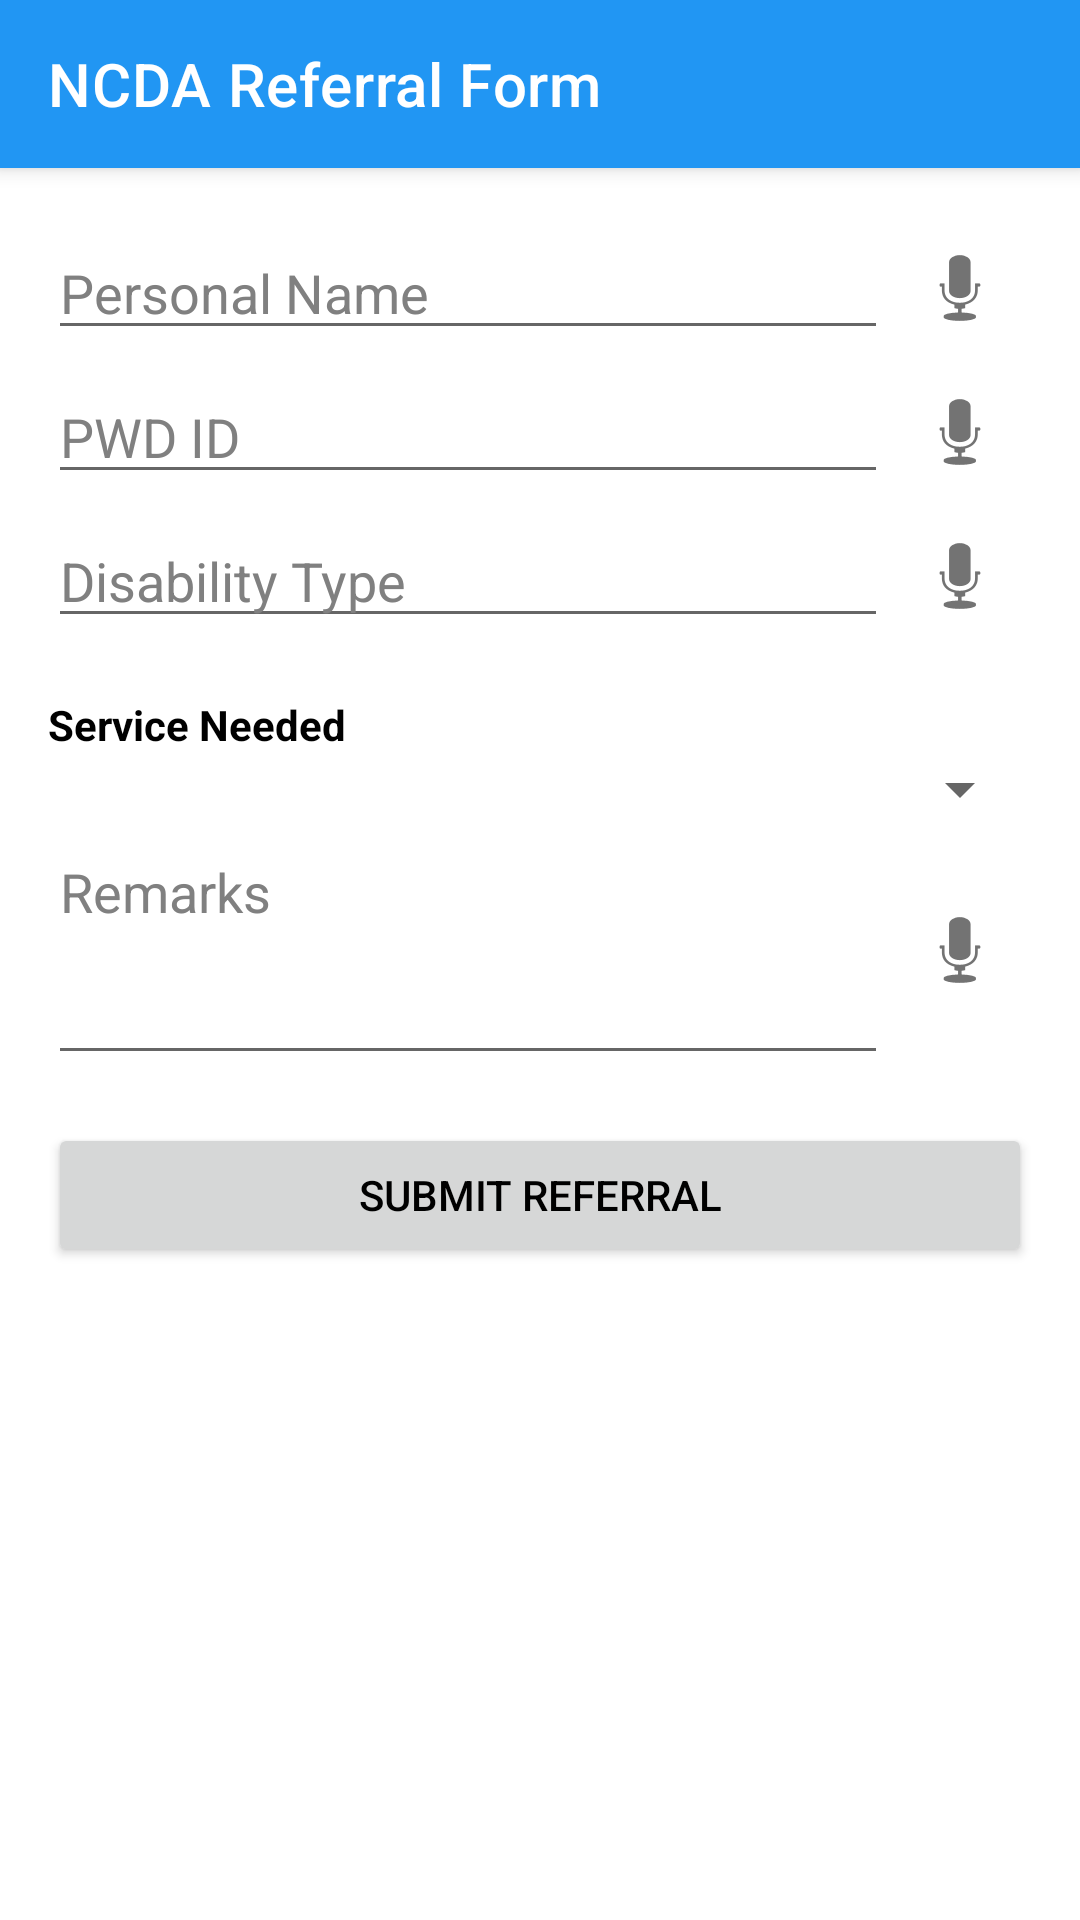

Point at icon controls on the screen. Image size 1080×1920, points as point (x, y).
Speak disability: point (960, 576)
Speak name: point (960, 288)
